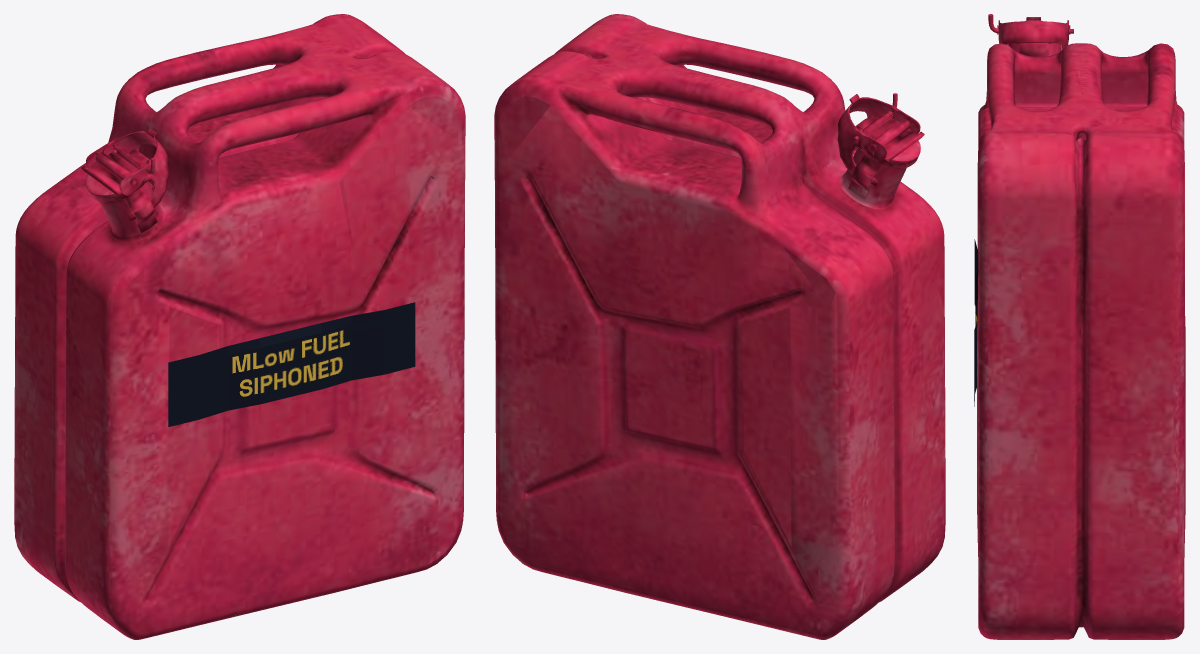
File: nyb_legend_jerry.glb
3 renders of one model, left to right at view 1: azimuth 30°, elevation 25°; view 2: azimuth 150°, elevation 25°; view 3: azimuth 270°, elevation 25°, orthographic. The views are drawn at different scales.
Parts seen in each view (by area): view 1: metal_jerrycan, stk_lbl_2707dcabc6.png; view 2: metal_jerrycan; view 3: metal_jerrycan, stk_lbl_2707dcabc6.png.
Part boxes in pixels (x1=…): metal_jerrycan: x1=14, y1=14, x2=465, y2=639; stk_lbl_2707dcabc6.png: x1=168, y1=302, x2=415, y2=426; metal_jerrycan: x1=494, y1=14, x2=945, y2=639; metal_jerrycan: x1=977, y1=14, x2=1185, y2=639; stk_lbl_2707dcabc6.png: x1=974, y1=239, x2=978, y2=406.
Bounding box in the file's own units: 0.3503 × 0.4552 × 0.174.
Materials: 2 (2 with a texture image).
